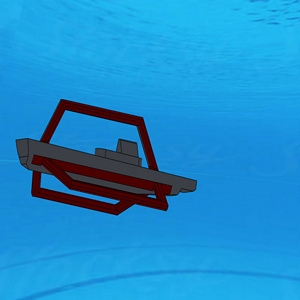submarine: (13, 98, 198, 220)
